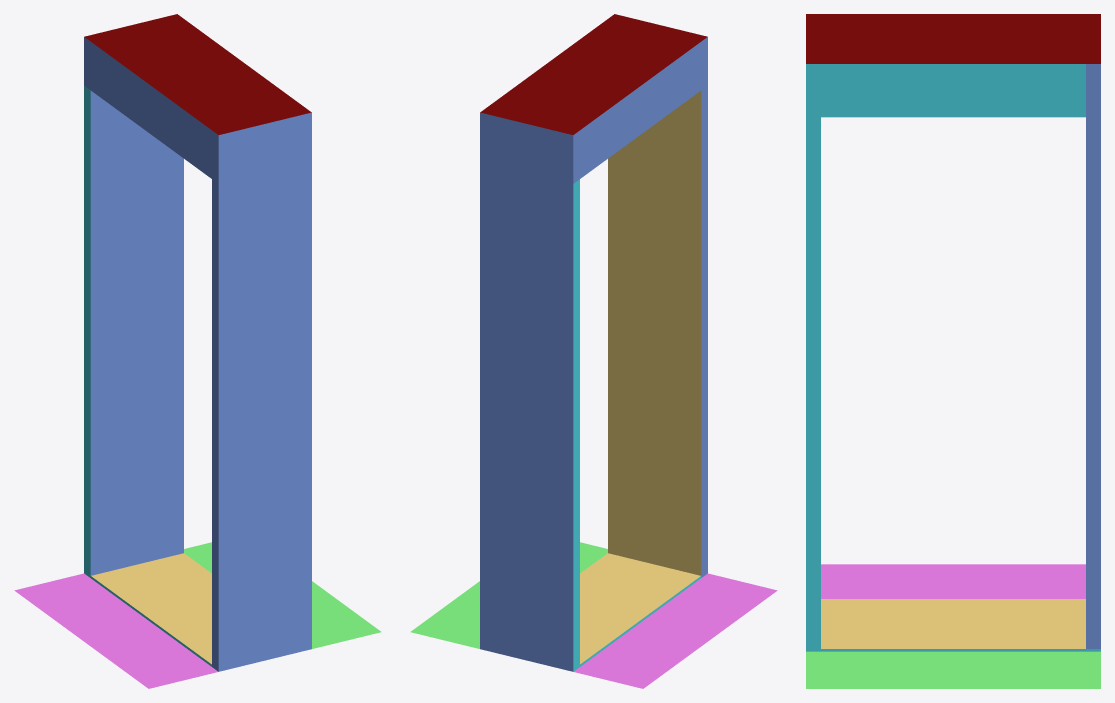
Rendered from WallVerticalDoorWay.fbx.
The picture shows the model from 3 angles, left to right: view 1: azimuth 30°, elevation 25°; view 2: azimuth 150°, elevation 25°; view 3: azimuth 270°, elevation 25°; orthographic projection. The views are drawn at different scales.
Parts seen in each view (by area): view 1: WallVerticalDoorWay; view 2: WallVerticalDoorWay; view 3: WallVerticalDoorWay.
Part boxes in pixels (box(x1,y1,x2,y2)): WallVerticalDoorWay: box(14, 14, 381, 688); WallVerticalDoorWay: box(410, 14, 777, 688); WallVerticalDoorWay: box(806, 14, 1100, 688).
Size of the model in its own units: 100 by 220 by 100.
